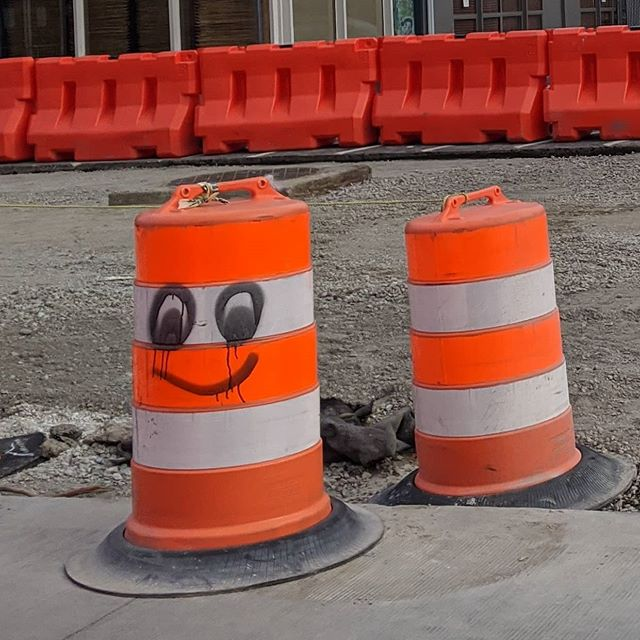traffic cone: (104, 159, 358, 609), (391, 184, 606, 532)
